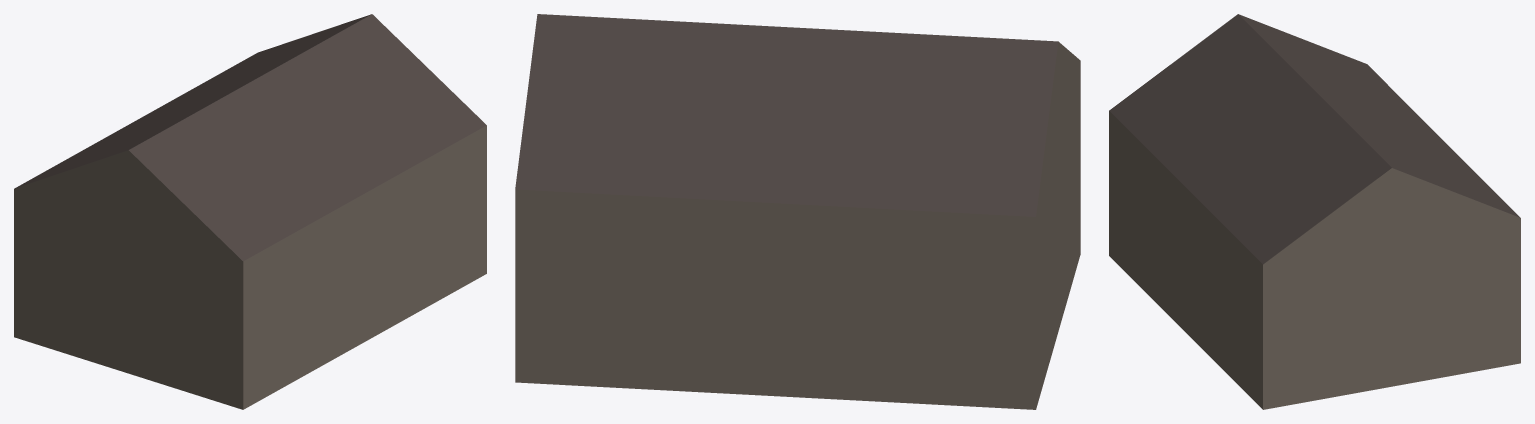
3 renders of one model, left to right at view 1: azimuth 30°, elevation 25°; view 2: azimuth 150°, elevation 25°; view 3: azimuth 270°, elevation 25°, orthographic. The views are drawn at different scales.
Visible parts, largest first — view 1: HP-w369342573; view 2: HP-w369342573; view 3: HP-w369342573.
Part boxes in pixels (left/top/right/bottom): HP-w369342573: left=14, top=14, right=486, bottom=409; HP-w369342573: left=515, top=14, right=1080, bottom=409; HP-w369342573: left=1109, top=14, right=1520, bottom=409.
Size of the model in its own units: 26.62 by 13.54 by 23.11.
